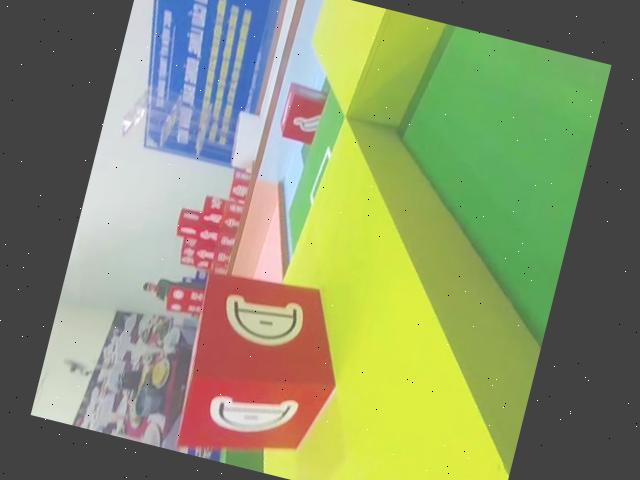R2 Real: (159, 259, 361, 480), (273, 79, 329, 148)
